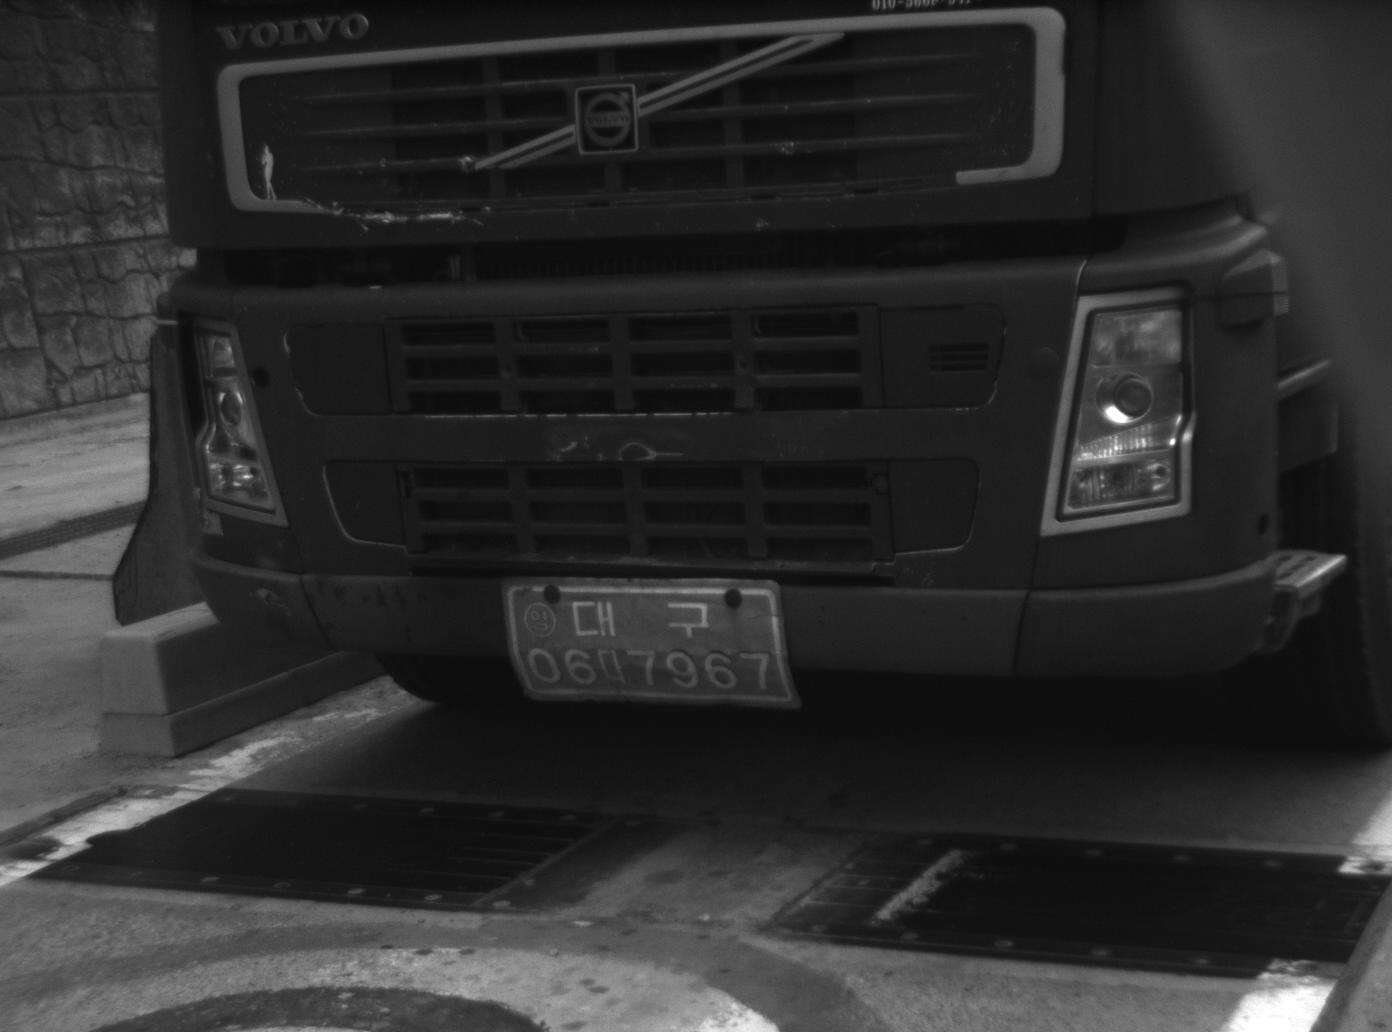car: (138, 1, 1387, 755)
plate: (500, 577, 796, 707)
